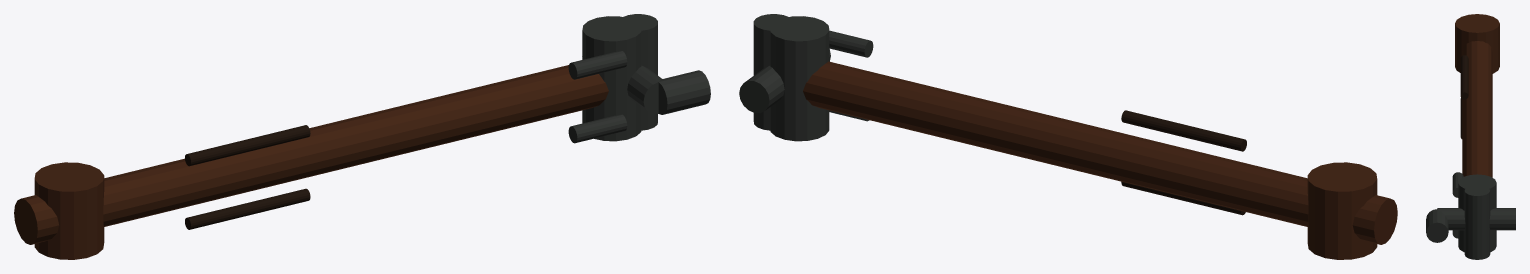
File: hitch_lod0.obj
3 renders of one model, left to right at view 1: azimuth 30°, elevation 25°; view 2: azimuth 150°, elevation 25°; view 3: azimuth 270°, elevation 25°, orthographic. The views are drawn at different scales.
Size of the model in its own units: 2.97 by 0.44 by 0.56.
